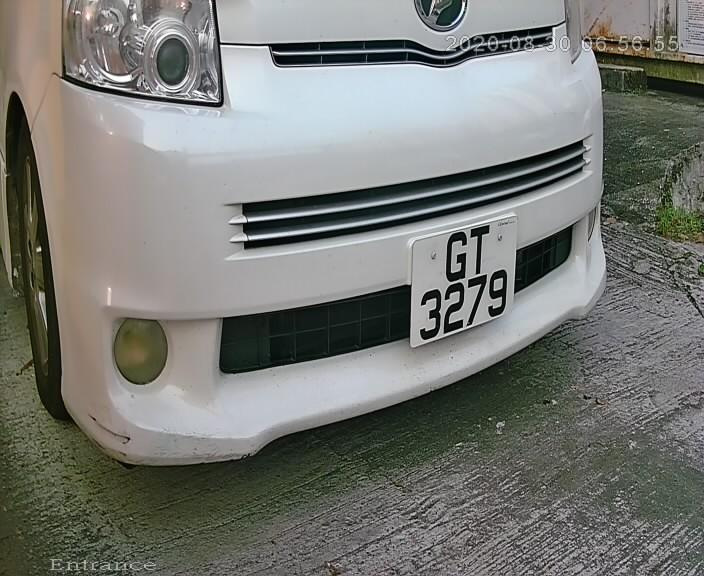License Plate: (400, 211, 522, 353)
